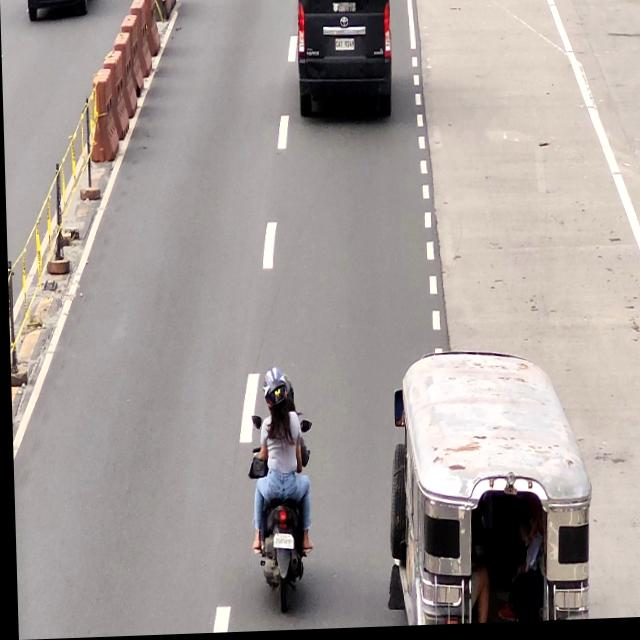Car: (290, 0, 393, 126)
Jeep: (388, 347, 588, 629)
License-Plate: (270, 533, 292, 552), (333, 38, 356, 56)
Motorcycle: (251, 372, 308, 615)
